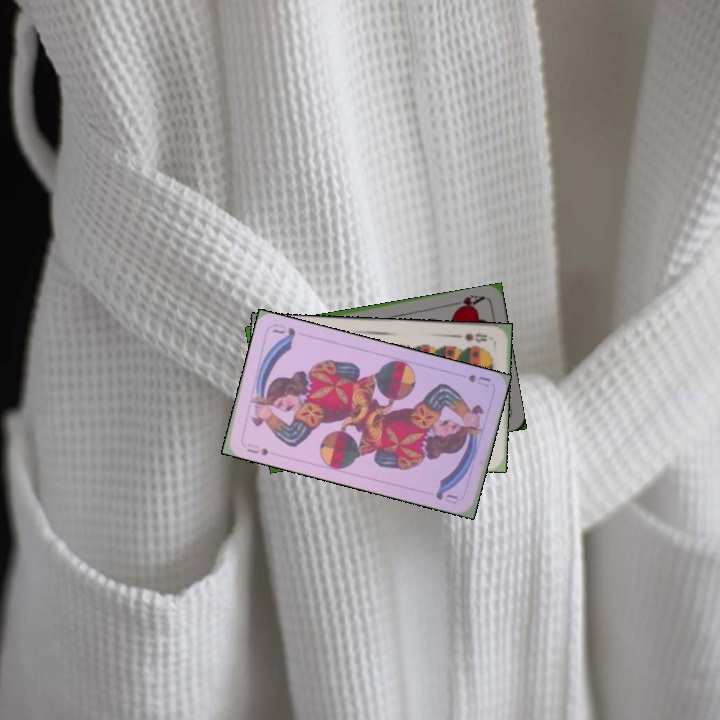HA: (447, 291, 487, 314)
S8: (461, 328, 490, 345)
SU: (464, 370, 493, 390), (242, 440, 271, 458)
